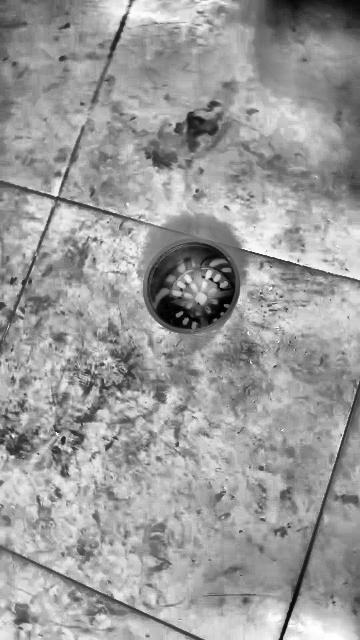pot: (143, 240, 240, 333)
